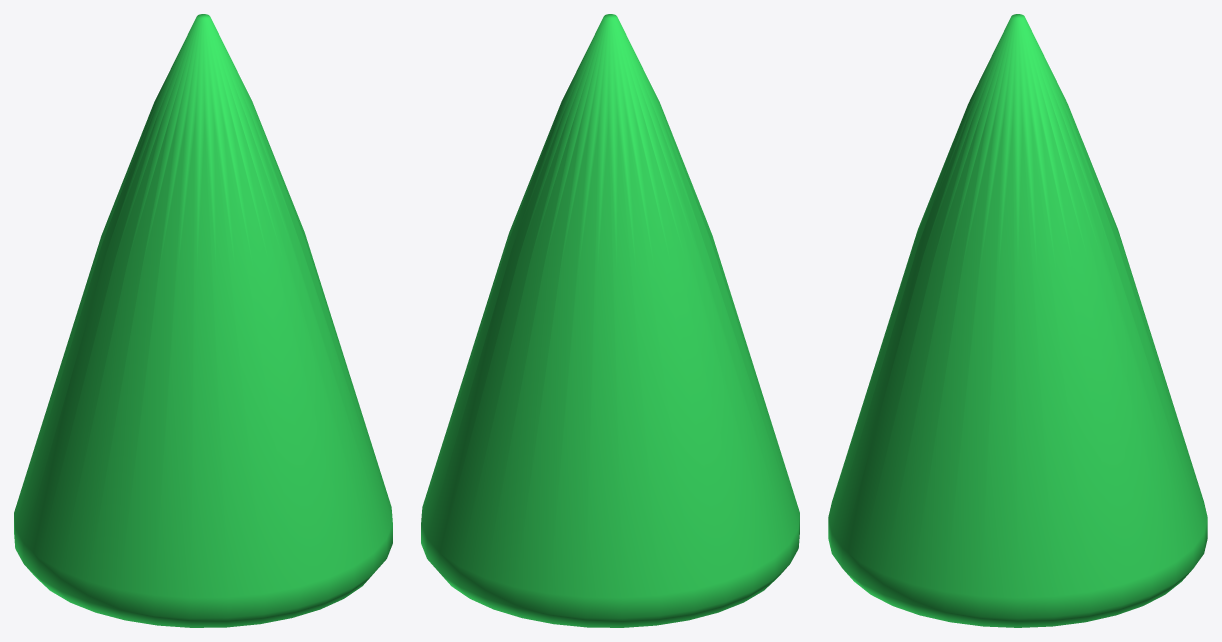
File: PROP_tree 5.fbx
3 renders of one model, left to right at view 1: azimuth 30°, elevation 25°; view 2: azimuth 150°, elevation 25°; view 3: azimuth 270°, elevation 25°, orthographic.
Parts seen in each view (by area): view 1: Cone.003; view 2: Cone.003; view 3: Cone.003.
Part boxes in pixels (box(x1,y1,x2,y2)): Cone.003: box(14, 14, 392, 627); Cone.003: box(421, 14, 799, 627); Cone.003: box(828, 14, 1207, 627).
Size of the model in its own units: 273 by 430 by 273.
